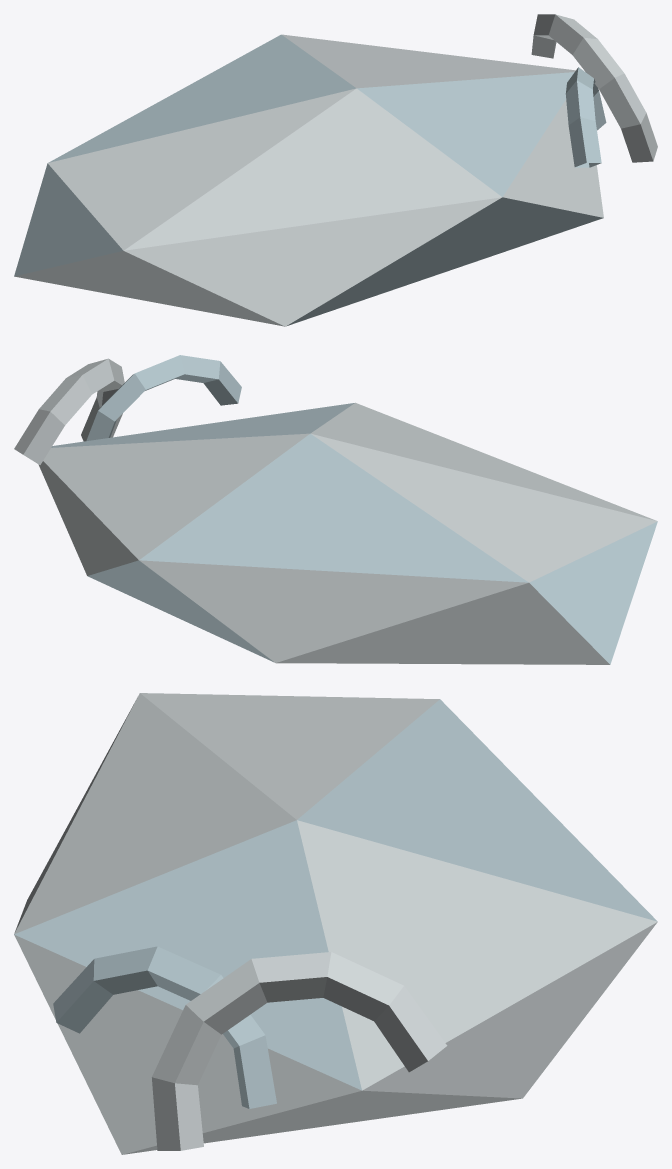
The model's file is litter_plastic_bag.glb.
The picture shows the model from 3 angles, top to bottom: view 1: azimuth 30°, elevation 25°; view 2: azimuth 150°, elevation 25°; view 3: azimuth 270°, elevation 25°; orthographic projection. The views are drawn at different scales.
Parts seen in each view (by area): view 1: litter_plastic_bag; view 2: litter_plastic_bag; view 3: litter_plastic_bag.
Part boxes in pixels (bbox=[...]): litter_plastic_bag: bbox=[14, 14, 657, 326]; litter_plastic_bag: bbox=[14, 355, 657, 664]; litter_plastic_bag: bbox=[14, 693, 657, 1154].
Size of the model in its own units: 0.3411 by 0.0825 by 0.2201.
